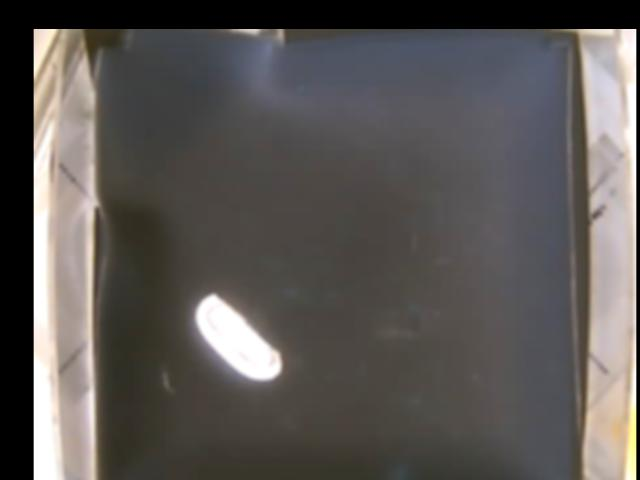Pebble: (193, 291, 283, 378)
